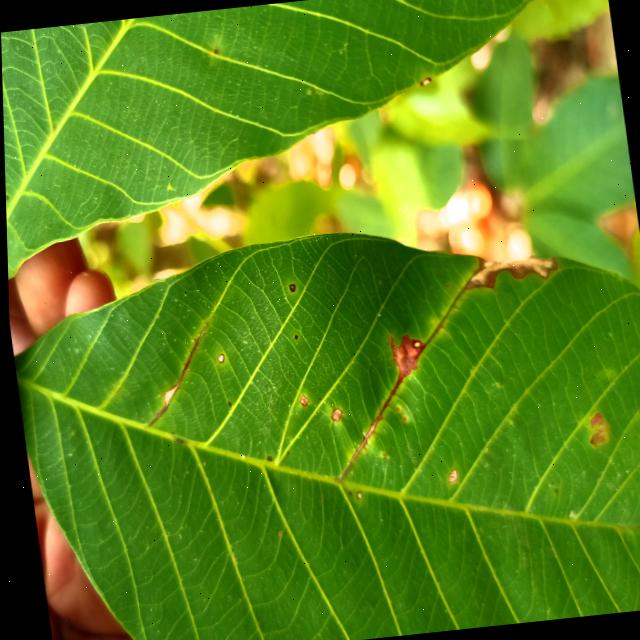Colletotrichum: (213, 354, 221, 364), (351, 490, 359, 500), (286, 283, 293, 292), (290, 334, 295, 340)
Corynespora: (131, 322, 217, 427), (323, 378, 410, 478), (403, 286, 471, 358)
Leaf-Blight: (458, 253, 556, 290), (384, 334, 423, 378), (327, 408, 339, 420), (295, 394, 304, 405)
